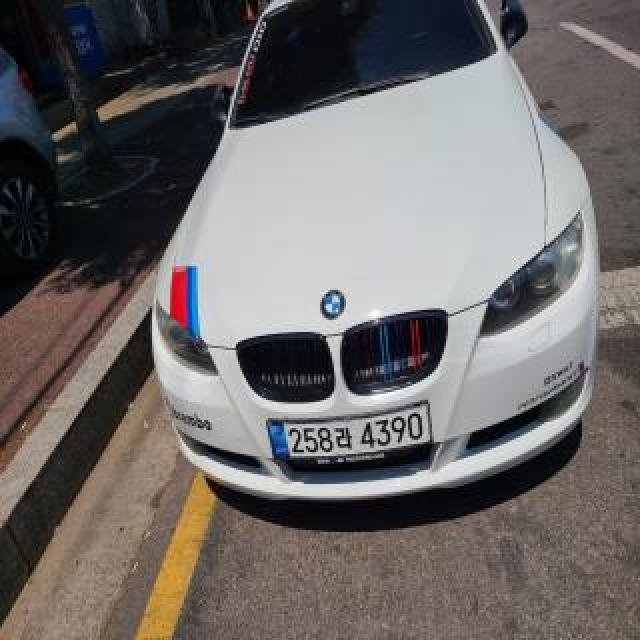car: (138, 0, 608, 526)
illegal_plate: (270, 408, 428, 471)
